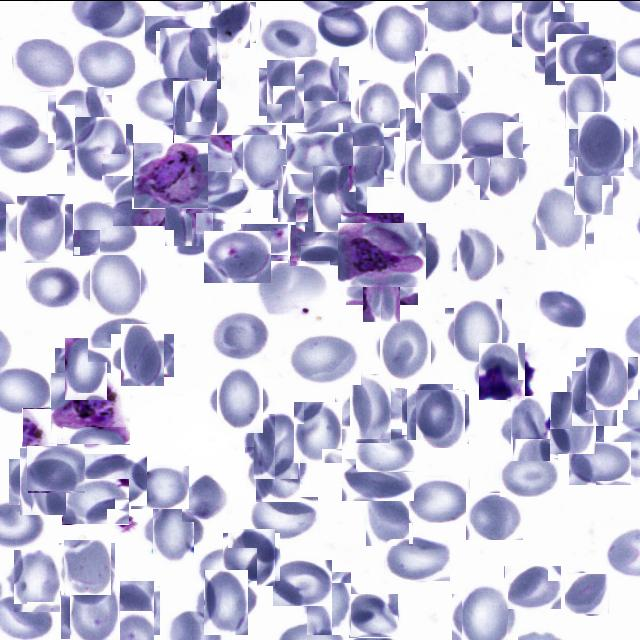difficult: (338, 222, 426, 286), (133, 142, 208, 208)
red blood cell: (256, 260, 330, 313), (158, 28, 220, 90), (288, 333, 361, 384), (73, 200, 139, 255), (204, 230, 271, 282), (11, 198, 70, 257), (86, 252, 144, 312), (70, 120, 130, 178), (65, 583, 125, 640), (14, 452, 72, 510), (377, 320, 435, 378), (408, 58, 466, 116), (132, 77, 203, 124), (449, 302, 506, 360), (533, 188, 590, 246), (401, 143, 458, 201), (12, 38, 74, 91), (84, 453, 147, 505), (208, 308, 271, 360), (212, 370, 268, 428), (74, 39, 136, 91), (468, 138, 525, 194), (414, 99, 470, 156), (290, 404, 346, 460), (342, 380, 398, 436), (52, 90, 108, 146), (168, 86, 224, 142), (263, 63, 319, 119), (573, 114, 629, 170), (306, 170, 362, 226), (457, 111, 523, 158), (114, 175, 176, 225), (62, 478, 129, 524), (88, 317, 158, 361), (371, 6, 426, 62), (334, 126, 389, 182), (198, 574, 253, 629), (250, 441, 305, 496), (10, 552, 64, 608), (342, 458, 414, 500), (238, 128, 292, 184), (354, 258, 410, 312), (103, 582, 157, 637), (384, 536, 450, 581), (249, 418, 304, 472), (162, 188, 217, 242), (342, 212, 406, 258), (302, 576, 356, 630), (546, 394, 600, 448), (413, 391, 467, 445), (540, 26, 594, 80), (456, 589, 513, 640), (26, 444, 85, 493), (147, 503, 200, 557), (291, 60, 344, 114), (556, 33, 616, 80), (251, 496, 318, 538), (304, 100, 371, 142), (116, 328, 169, 381), (275, 166, 328, 219), (504, 402, 558, 454), (409, 476, 470, 522), (568, 441, 631, 485), (287, 131, 353, 173), (225, 530, 278, 582), (174, 134, 239, 176), (186, 170, 251, 212), (273, 559, 332, 605), (62, 540, 114, 592), (581, 352, 633, 404), (476, 345, 528, 397), (516, 0, 569, 51), (466, 492, 523, 539), (259, 16, 318, 61), (61, 342, 112, 394), (295, 198, 350, 246), (200, 547, 257, 593), (499, 453, 558, 497), (405, 386, 456, 436), (356, 428, 415, 471), (223, 223, 288, 262), (504, 565, 561, 609), (364, 494, 414, 544), (570, 372, 620, 422), (452, 229, 502, 279), (355, 82, 405, 132), (131, 465, 189, 508), (145, 15, 198, 62), (174, 215, 231, 258), (569, 160, 618, 210), (26, 265, 84, 307), (22, 407, 84, 446), (102, 153, 150, 203), (290, 224, 348, 265), (316, 4, 370, 48), (561, 76, 609, 125), (182, 474, 229, 521), (349, 593, 398, 637), (206, 0, 252, 46), (536, 288, 586, 330), (566, 572, 608, 614)
schizont: (50, 372, 130, 444)
